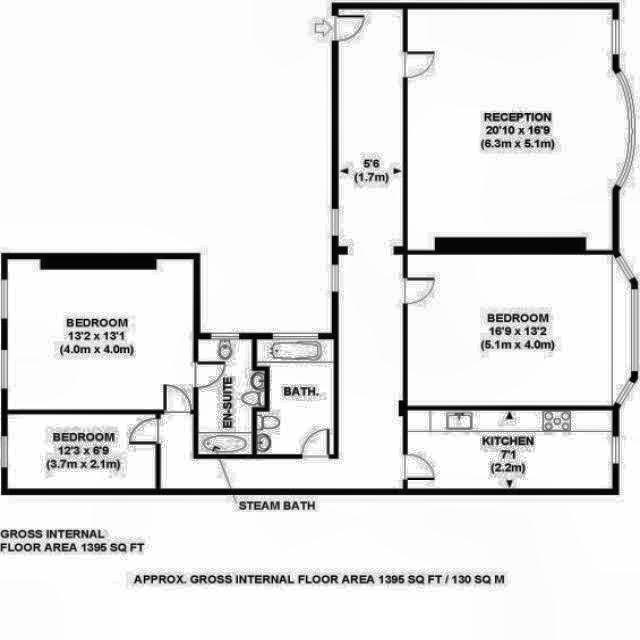room: (159, 253, 403, 489), (408, 10, 629, 251), (408, 255, 631, 406), (8, 259, 194, 410), (408, 410, 613, 489), (338, 9, 404, 247), (8, 414, 156, 489), (256, 339, 334, 454), (198, 339, 265, 454)
